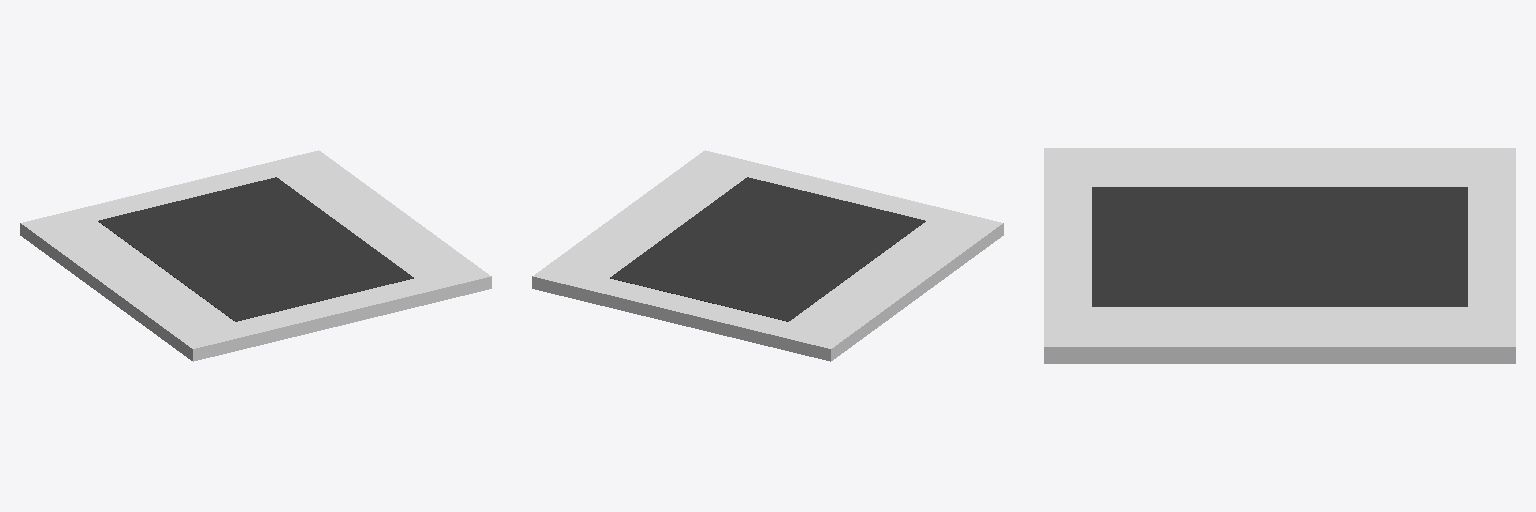
URDF robot description (workspace):
<?xml version="1.0" ?>

<robot name="workspace">
    <material name="workspace">
        <color rgba="0.93 0.93 0.93 1"/>
    </material>
    <material name="range">
        <color rgba="0.3 0.3 0.3 0.3"/>
    </material>
    <link name="workspace">
        <contact>
            <lateral_friction value="0.1"/>
        </contact>
        <inertial>
            <origin rpy="0 0 0" xyz="0 0 0"/>
            <mass value="0"/>
            <inertia ixx="0.1" ixy="0" ixz="0" iyy="0.1" iyz="0" izz="0.1"/>
        </inertial>
        <visual>
            <origin rpy="0 0 0" xyz="0 0 0"/>
            <geometry>
                <box size="0.5 0.5 0.02"/>
            </geometry>
            <material name="workspace"/>
        </visual>
        <collision>
            <origin rpy="0 0 0" xyz="0 0 0"/>
            <geometry>
                <box size="0.5 0.5 0.02"/>
            </geometry>
        </collision>
    </link>
    <joint name="workspace_range_joint" type="fixed">
        <origin rpy="0 0 0" xyz="0 0 0.01005"/>
        <parent link="workspace"/>
        <child link="range"/>
    </joint>
    <link name="range">
        <inertial>
            <origin rpy="0 0 0" xyz="0 0 0"/>
            <mass value="0"/>
            <inertia ixx="0.1" ixy="0" ixz="0" iyy="0.1" iyz="0" izz="0.1"/>
        </inertial>
        <visual>
            <origin rpy="0 0 0" xyz="0 0 0"/>
            <geometry>
                <box size="0.3 0.4 0.001"/>
            </geometry>
            <material name="range"/>
        </visual>
    </link>
</robot>

--- What the picture shows (computed from the rendered views, not written in the file) ---
The picture shows the robot from 3 angles, left to right: view 1: azimuth 30°, elevation 25°; view 2: azimuth 150°, elevation 25°; view 3: azimuth 270°, elevation 25°; orthographic projection.
Model workspace with 2 links and 1 joints (1 fixed), rooted at workspace, posed every joint at zero.
Links seen in each view (by area): view 1: workspace, range; view 2: workspace, range; view 3: workspace, range.
Boxes of the visible links, x1,y1,x2,y2 form: workspace: (20,150,491,361); range: (98,177,413,321); workspace: (532,150,1003,361); range: (610,177,925,321); workspace: (1044,148,1515,363); range: (1092,187,1467,306).
Bounding box of the posed robot: 0.5 × 0.5 × 0.0205 m (x, y, z).
Geometry: primitives only (box / cylinder / sphere), no mesh files.